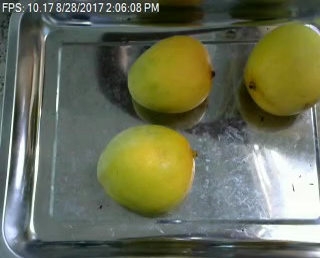Mango: (94, 122, 202, 214), (242, 18, 320, 116), (123, 33, 216, 115)
